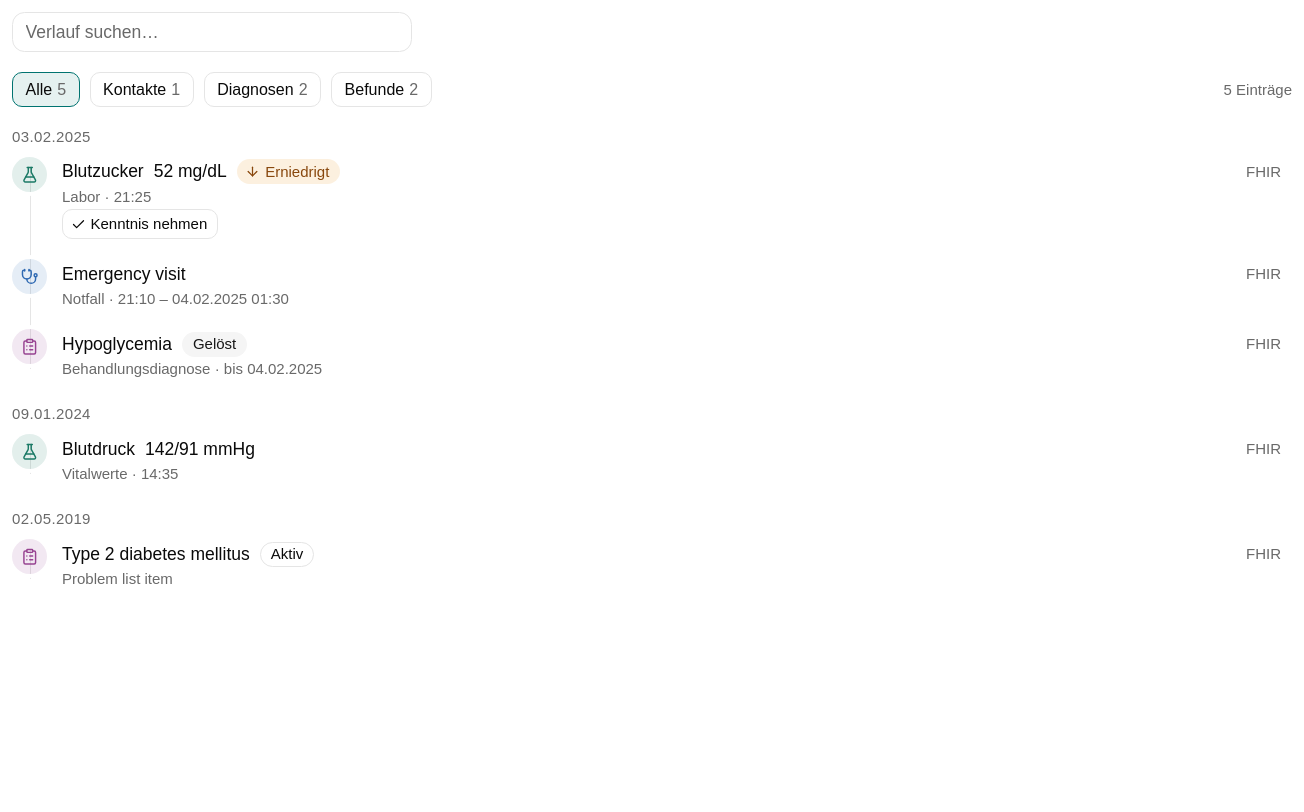
Test: PatientTimeline › acknowledging a flagged result › uses saved initials without asking
What coordinates should you click on to do the following:
click the button with aria-label "Kenntnis nehmen: Blutzucker"
I would click on:
 (140, 224)
Its box is x1=62 y1=210 x2=218 y2=240.
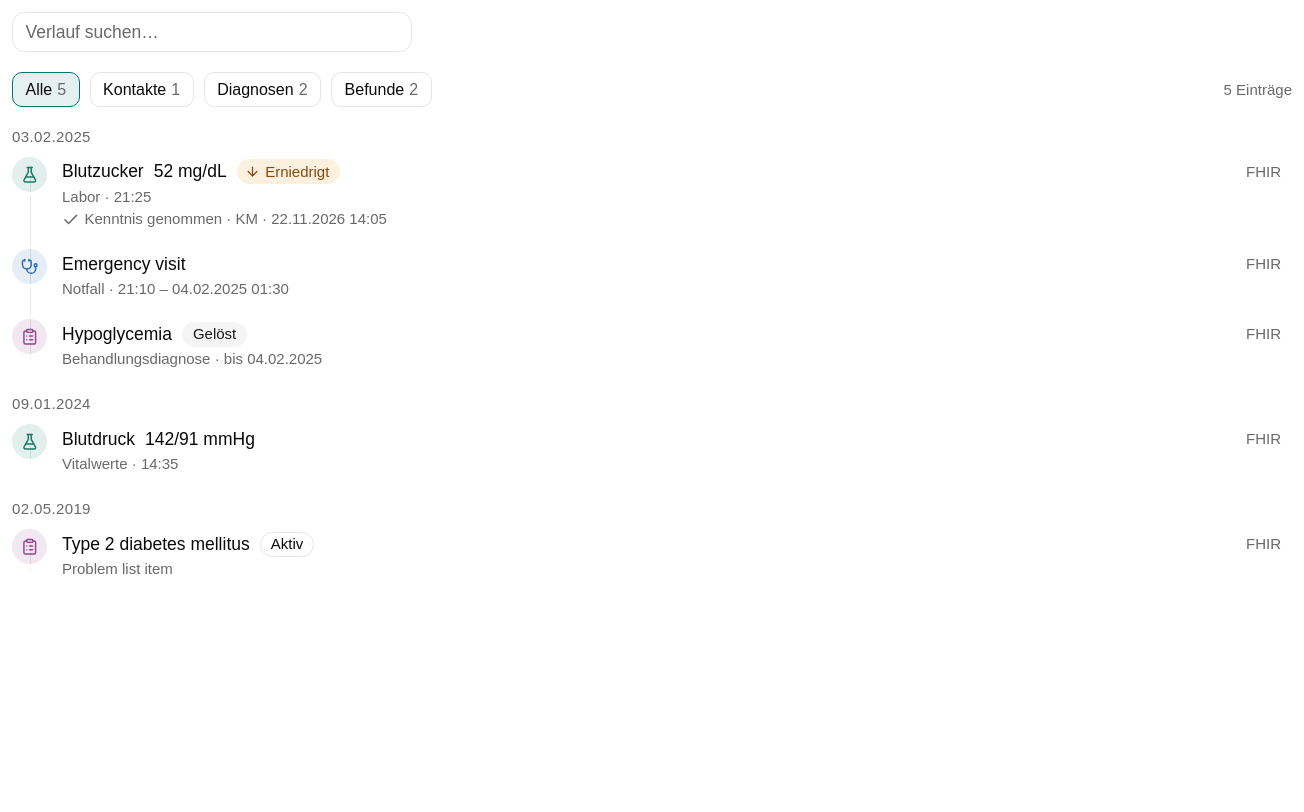
Result: the text "Kenntnis genommen · KM · 22.11.2026 14:05" is shown at x1=62 y1=210 x2=387 y2=228
